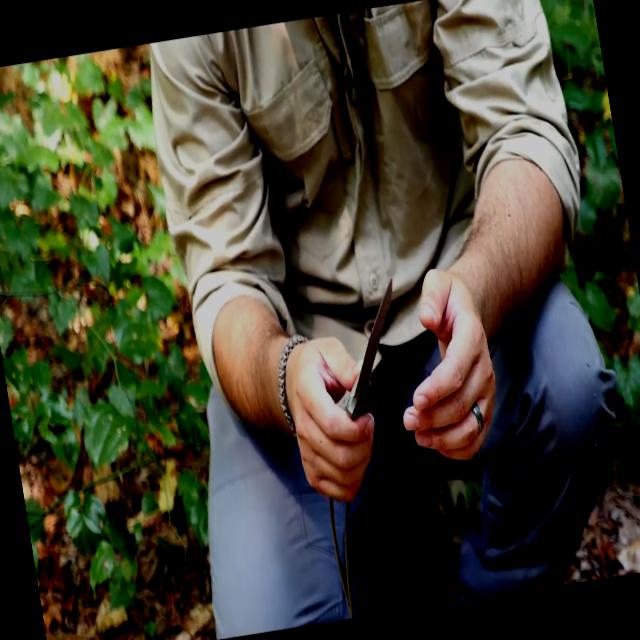knife: (276, 272, 426, 492)
